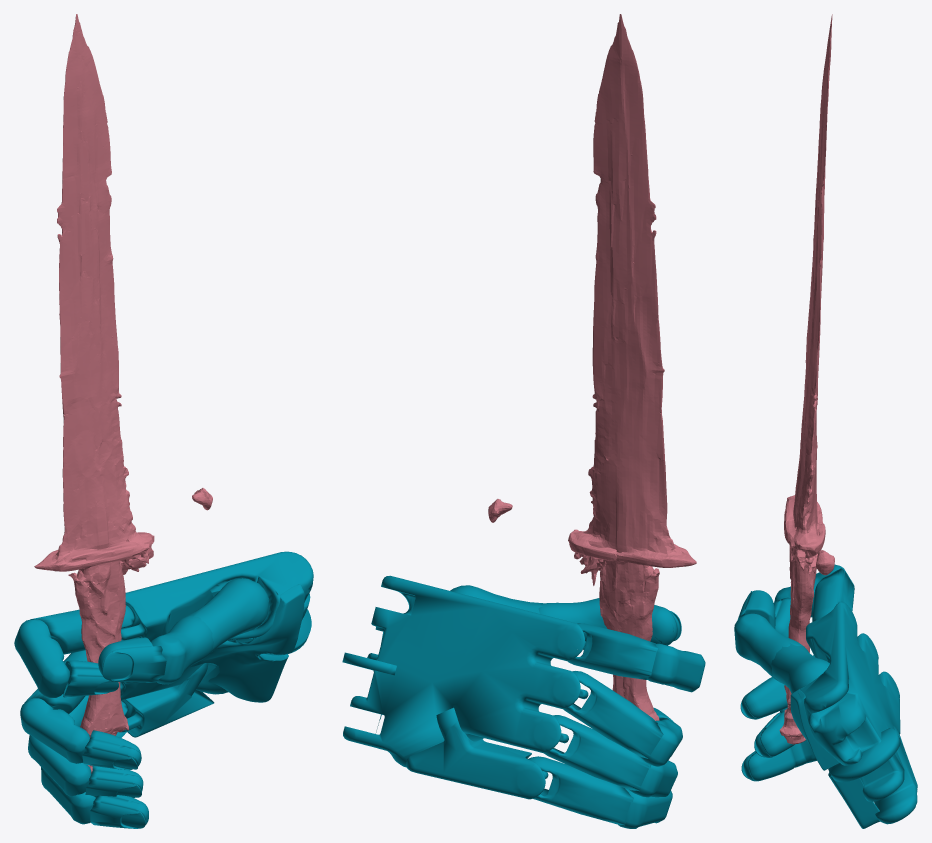
3 renders of one model, left to right at view 1: azimuth 30°, elevation 25°; view 2: azimuth 150°, elevation 25°; view 3: azimuth 270°, elevation 25°, orthographic. The views are drawn at different scales.
Parts seen in each view (by area): view 1: world; view 2: world; view 3: world.
Part boxes in pixels (x1=…): world: x1=14, y1=14, x2=313, y2=828; world: x1=342, y1=14, x2=705, y2=828; world: x1=734, y1=14, x2=917, y2=828.
Bounding box in the file's own units: 0.1686 × 0.419 × 0.0919.
